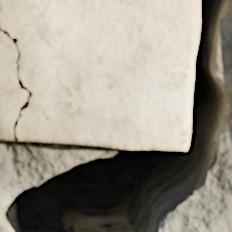brick: (0, 0, 199, 149), (0, 33, 26, 139)
broken_brick: (0, 226, 7, 231)
crack: (0, 0, 229, 231), (0, 23, 32, 140)
